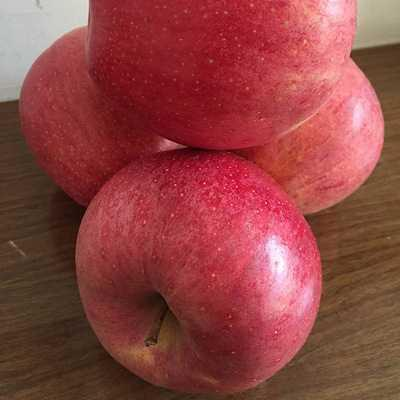apple: (71, 151, 325, 393), (82, 2, 360, 151), (18, 24, 186, 207), (228, 57, 383, 216)
